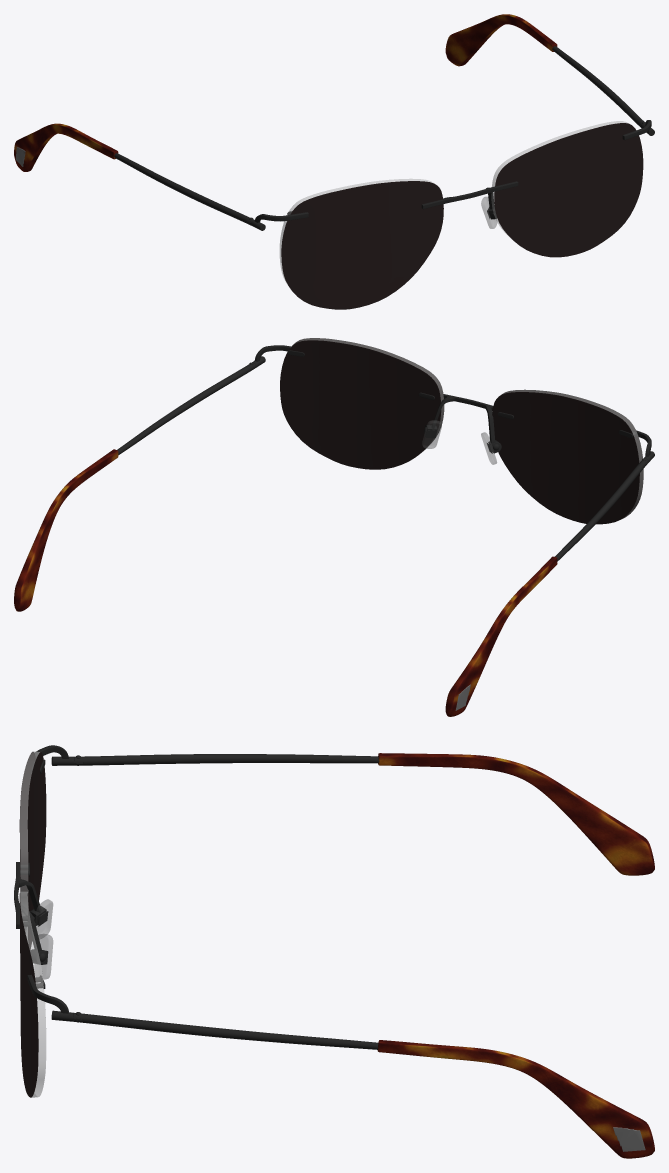
Rendered from frameless.glb.
The picture shows the model from 3 angles, top to bottom: view 1: azimuth 30°, elevation 25°; view 2: azimuth 150°, elevation 25°; view 3: azimuth 270°, elevation 25°; orthographic projection. The views are drawn at different scales.
Parts seen in each view (by area): view 1: Mesh__Glasses1_0, Mesh__T1_0, Mesh__Base1_0, Mesh__Glasses_Side1_0; view 2: Mesh__Glasses1_0, Mesh__T1_0, Mesh__Base1_0, Mesh__Glasses_Side1_0, Mesh__nose1_0; view 3: Mesh__T1_0, Mesh__Base1_0, Mesh__Glasses1_0, Mesh__Glasses_Side1_0, Mesh__nose1_0.
Part boxes in pixels (x1=…): Mesh__Glasses1_0: x1=281, y1=123, x2=643, y2=309; Mesh__T1_0: x1=14, y1=14, x2=557, y2=171; Mesh__Base1_0: x1=114, y1=46, x2=654, y2=230; Mesh__Glasses_Side1_0: x1=279, y1=121, x2=628, y2=289; Mesh__Glasses1_0: x1=280, y1=338, x2=643, y2=524; Mesh__T1_0: x1=14, y1=449, x2=557, y2=716; Mesh__Base1_0: x1=117, y1=345, x2=654, y2=561; Mesh__Glasses_Side1_0: x1=290, y1=338, x2=643, y2=518; Mesh__nose1_0: x1=422, y1=420, x2=496, y2=464; Mesh__T1_0: x1=377, y1=753, x2=654, y2=1158; Mesh__Base1_0: x1=14, y1=745, x2=379, y2=1049; Mesh__Glasses1_0: x1=19, y1=752, x2=46, y2=1097; Mesh__Glasses_Side1_0: x1=20, y1=751, x2=46, y2=1097; Mesh__nose1_0: x1=34, y1=899, x2=53, y2=979.
Size of the model in its own units: 0.1558 by 0.0406 by 0.1426.
6 materials, 1 textured.
